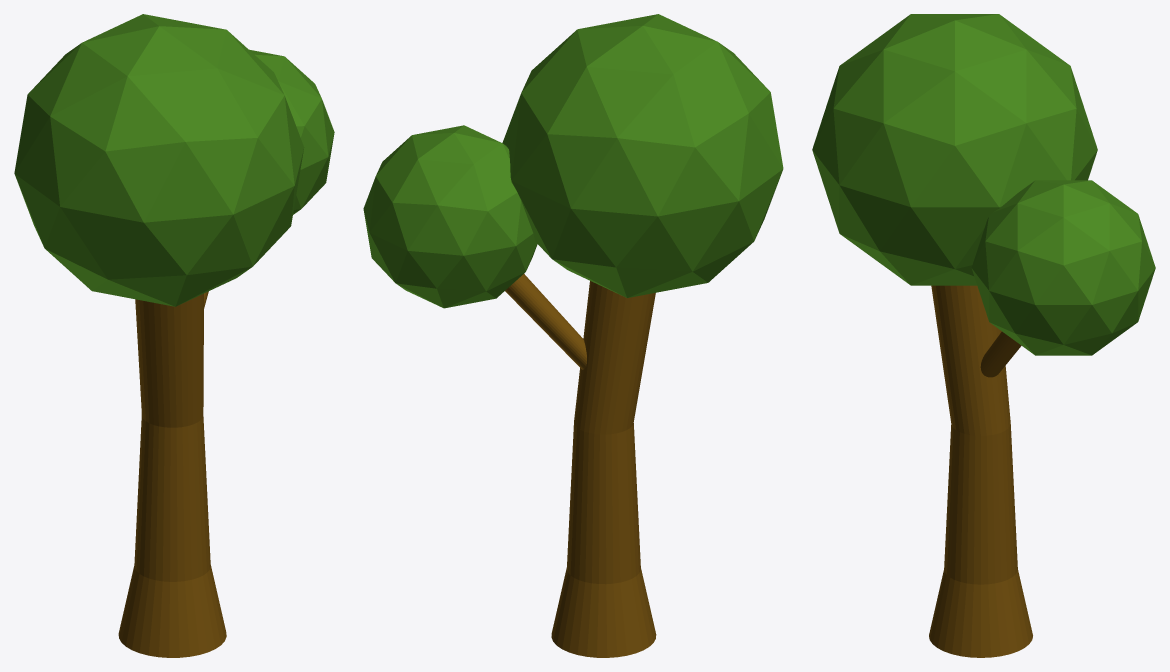
The model's file is tree.glb.
3 views of the same model, side by side, from view 1: azimuth 30°, elevation 25°; view 2: azimuth 150°, elevation 25°; view 3: azimuth 270°, elevation 25° (orthographic). The views are drawn at different scales.
Parts seen in each view (by area): view 1: Cylinder; view 2: Cylinder; view 3: Cylinder.
Boxes of the visible parts, left/top/right/bottom form: Cylinder: left=14, top=14, right=334, bottom=657; Cylinder: left=363, top=14, right=783, bottom=657; Cylinder: left=812, top=14, right=1155, bottom=657.
Size of the model in its own units: 0.6102 by 1.08 by 0.5557.
